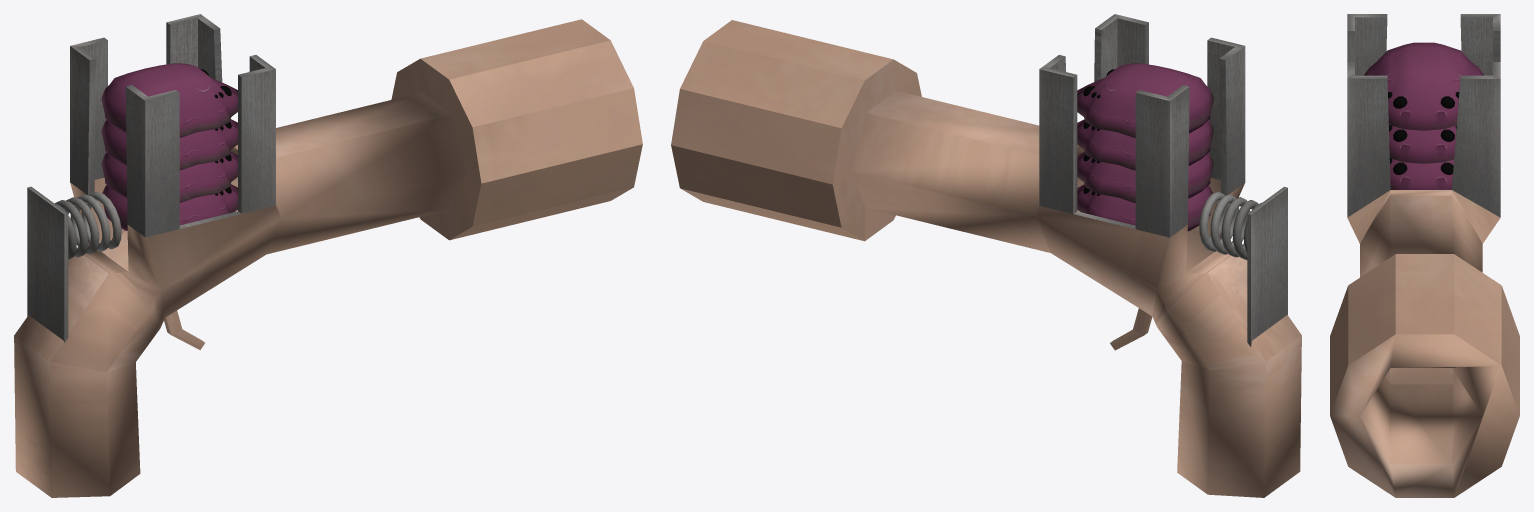
File: AliensLauncher.fbx
3 views of the same model, side by side, from view 1: azimuth 30°, elevation 25°; view 2: azimuth 150°, elevation 25°; view 3: azimuth 270°, elevation 25° (orthographic).
Parts seen in each view (by area): view 1: AlienLauncher; view 2: AlienLauncher; view 3: AlienLauncher.
Part boxes in pixels (<box>): AlienLauncher: <box>14,14,642,497</box>; AlienLauncher: <box>671,14,1301,497</box>; AlienLauncher: <box>1330,14,1519,497</box>.
Size of the model in its own units: 1820 by 1210 by 520.
2 materials, 1 textured.
